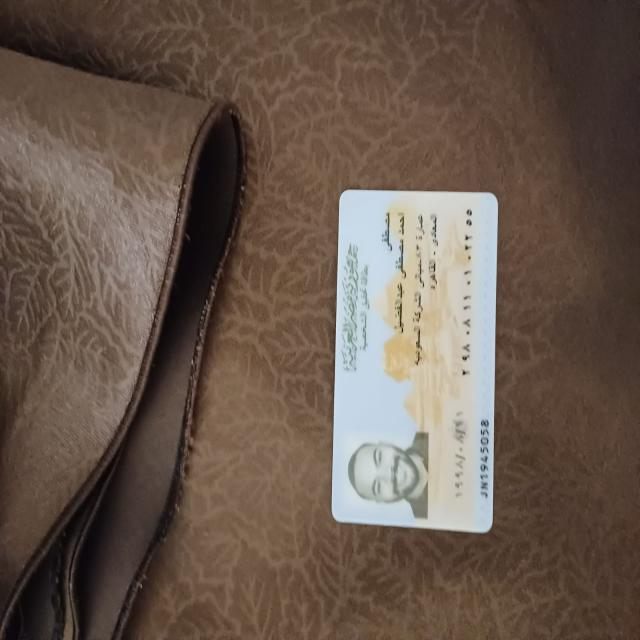id_card: (326, 181, 503, 539)
